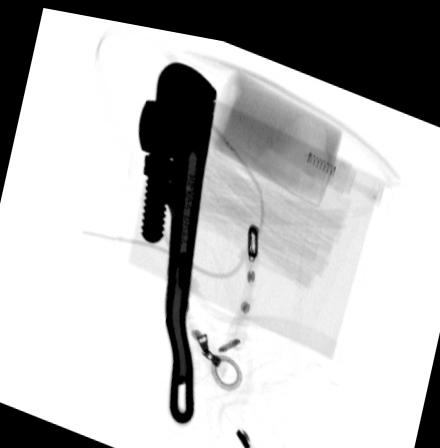Wrench: (136, 52, 218, 418)
